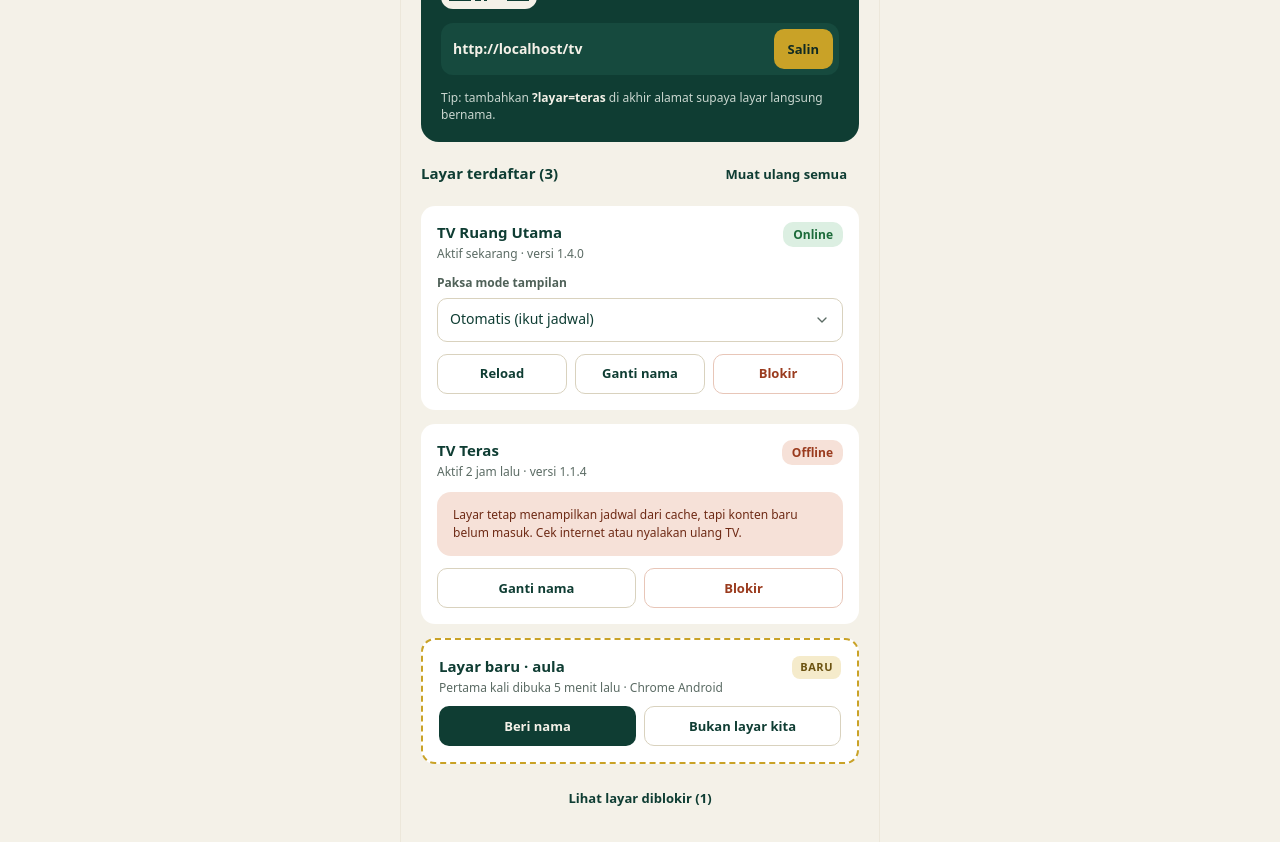
Test: ScreensPage › names a new screen from its ?layar= hint, after confirming
The width and height of the screenshot is (1280, 842).
(page scrolled)
Click the button "Beri nama". click: (538, 726)
box: [439,706,636,746]
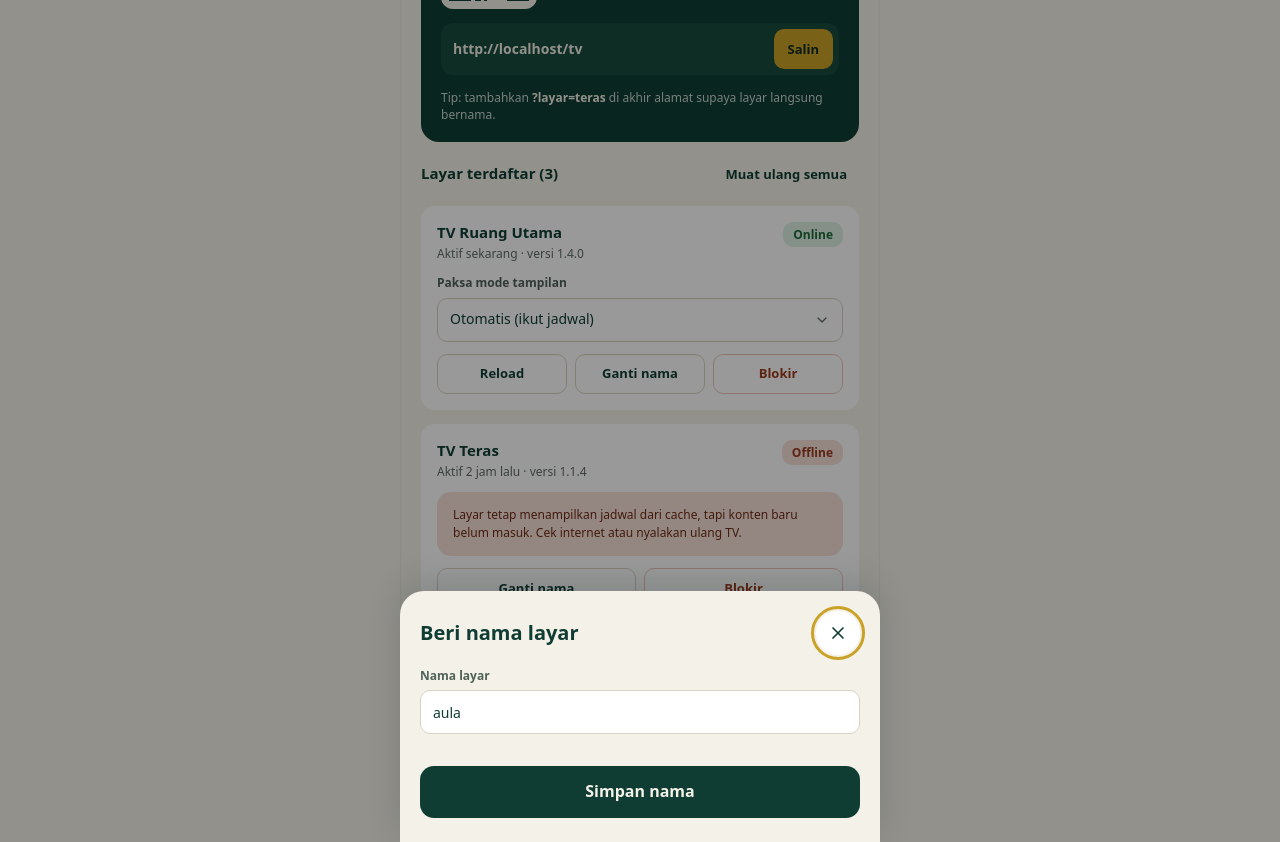
Check: the field labelled "Nama layar" holds "aula"
Replace the text in the field labelled "Nama layar" with "TV Aula". click: (640, 712)
box: [420,690,860,734]
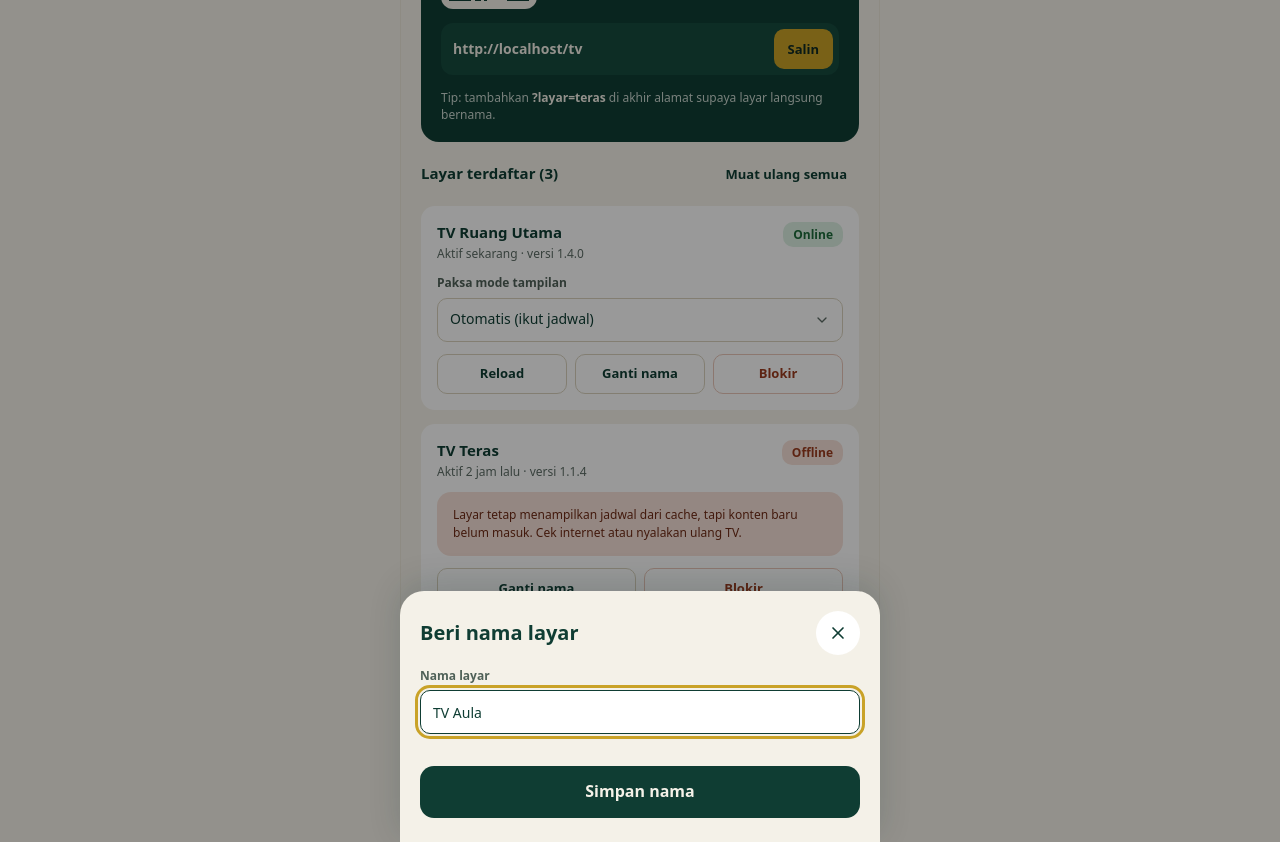
Click the button "Simpan nama". click: (640, 792)
box: [420,766,860,818]
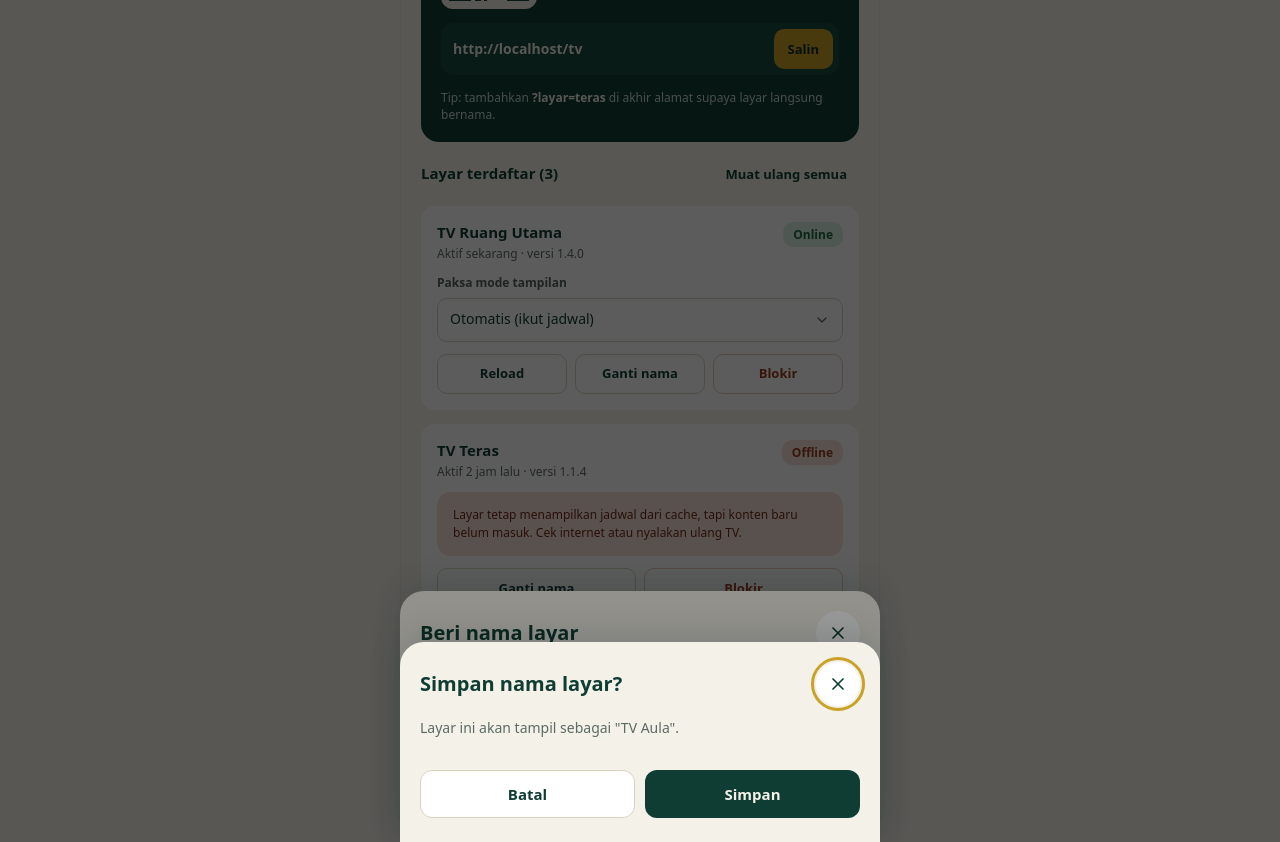
Click the button "Simpan". click: (752, 794)
box: [645,770,860,818]
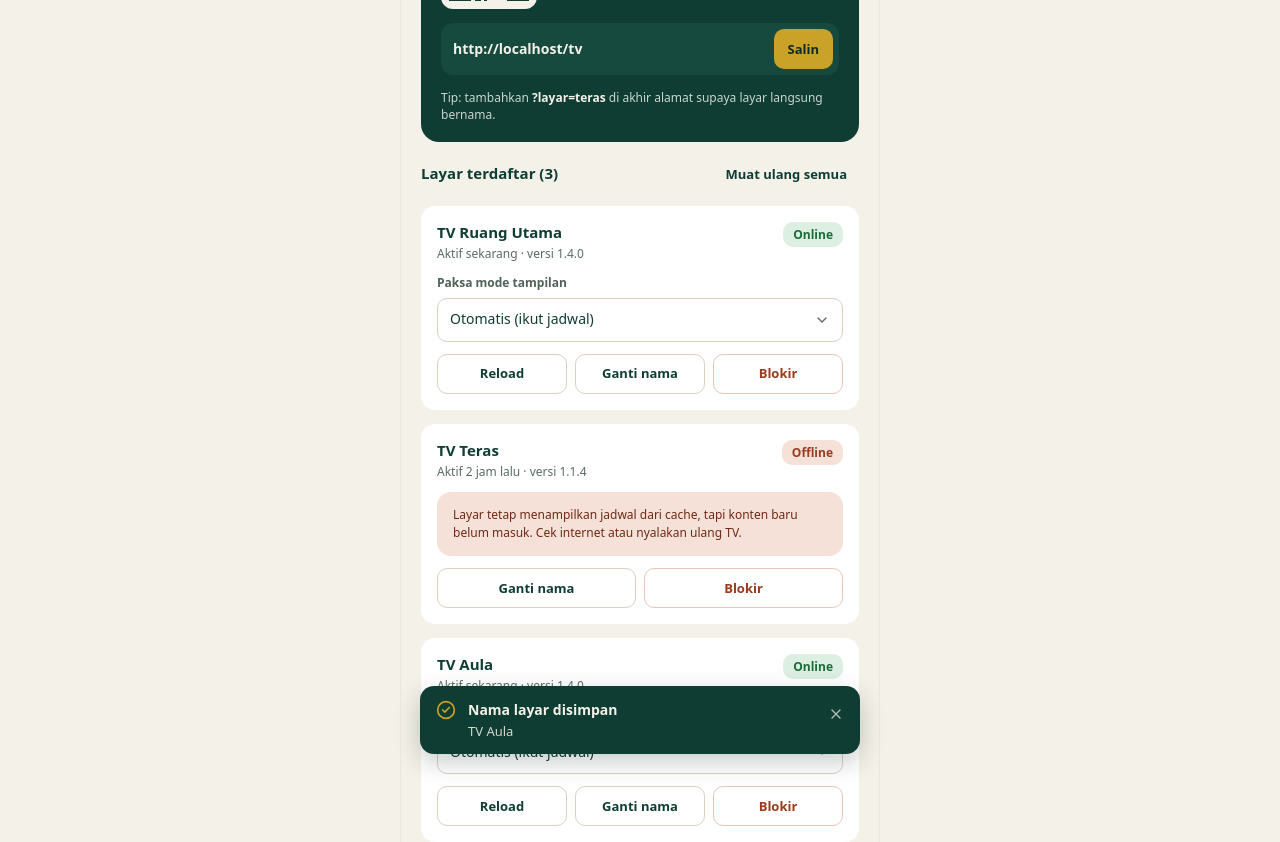
Check: the heading "TV Aula" is shown, box [437,654,493,674]
